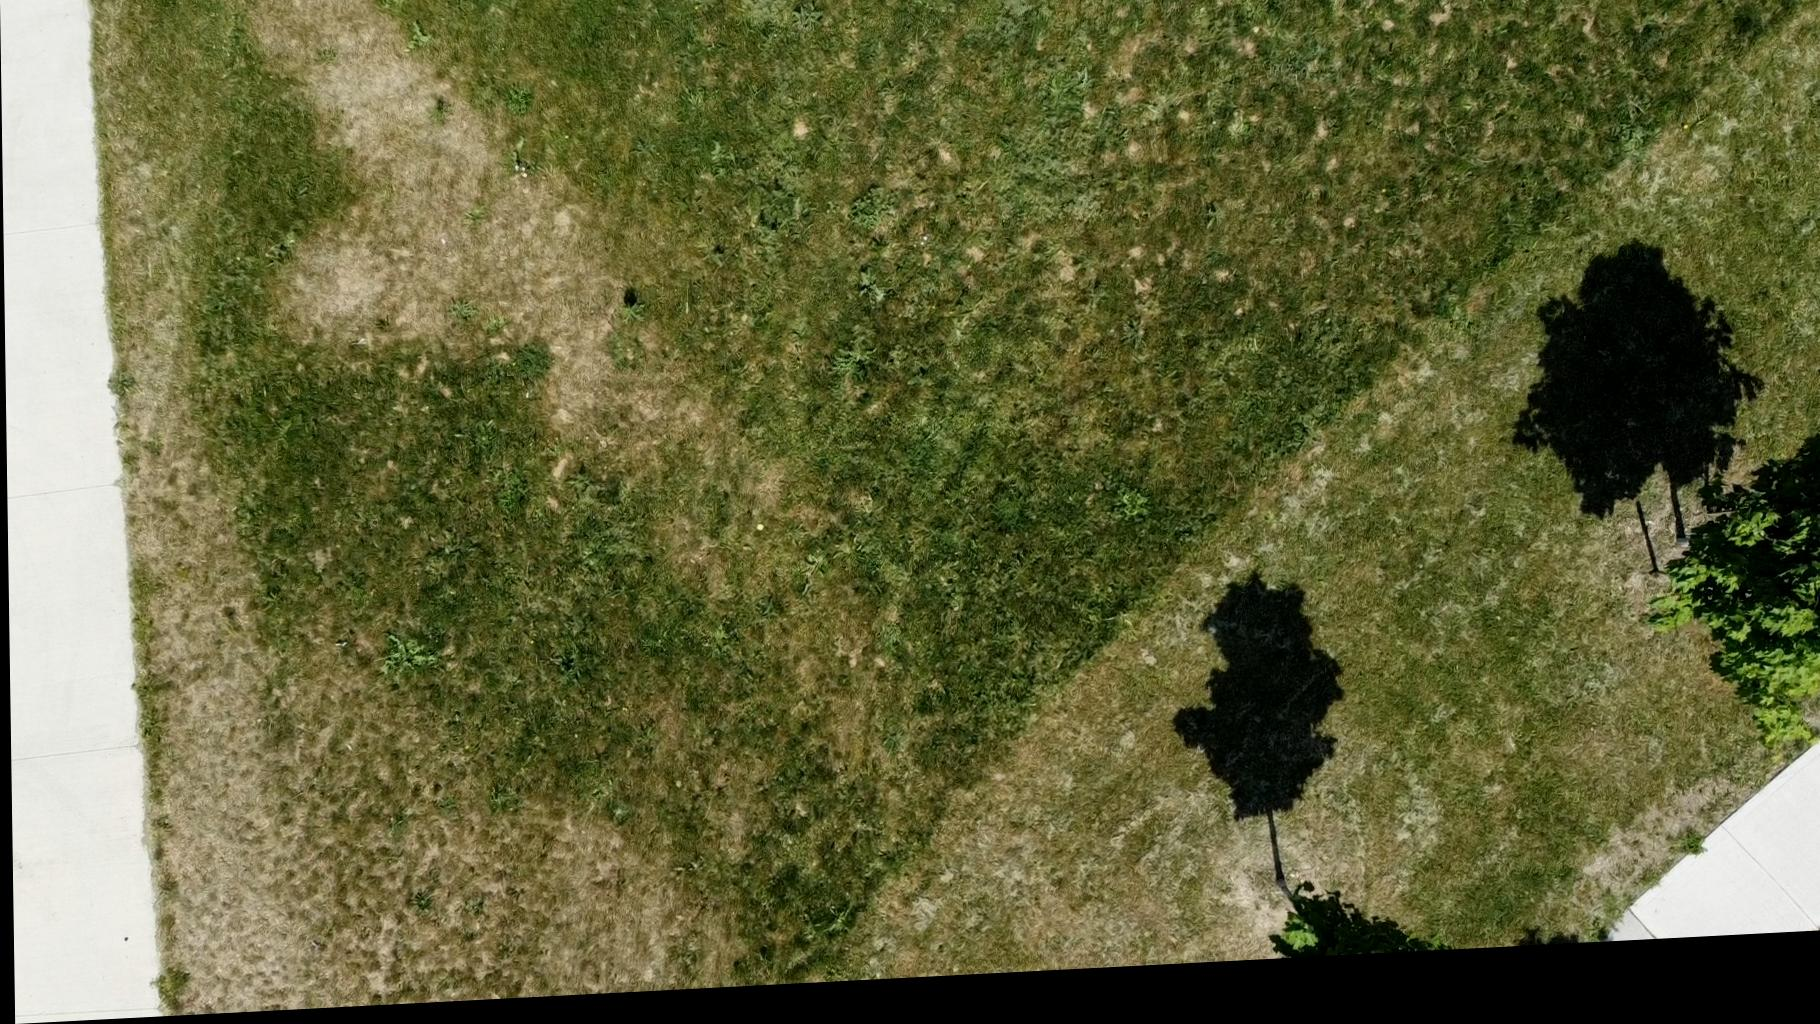Red: (1080, 0, 1155, 11)
